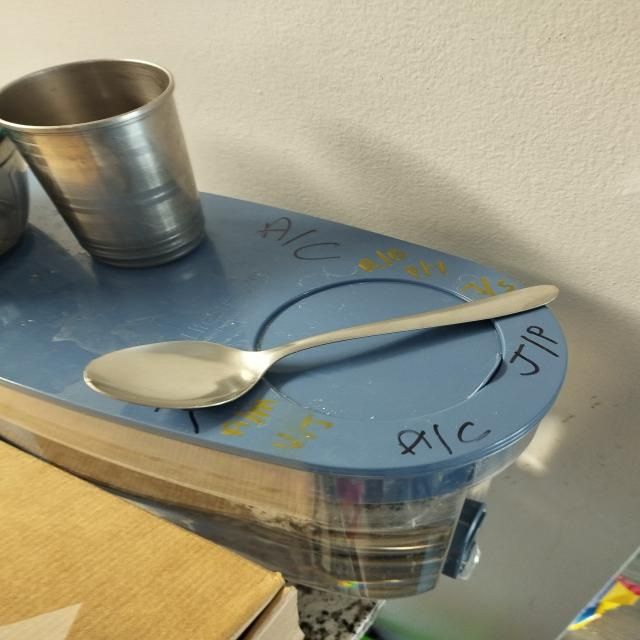Spoon: (57, 272, 590, 421)
